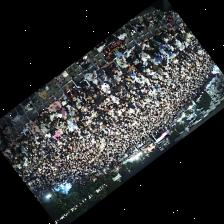person: (69, 73, 90, 91), (135, 45, 151, 62), (133, 57, 149, 72), (65, 84, 77, 101), (103, 60, 117, 73), (120, 62, 134, 75), (154, 39, 169, 50), (124, 47, 135, 62), (76, 90, 88, 103), (48, 100, 61, 112), (85, 69, 97, 82), (114, 80, 126, 92), (116, 54, 127, 67), (64, 100, 74, 114), (67, 120, 77, 134), (39, 108, 49, 122), (102, 68, 111, 83), (105, 71, 120, 80), (152, 31, 164, 42), (130, 63, 140, 76), (100, 80, 110, 92), (90, 78, 100, 90), (140, 37, 149, 50), (41, 123, 50, 136), (96, 66, 104, 80), (152, 63, 163, 73), (15, 133, 25, 144), (87, 86, 96, 98), (31, 124, 39, 137), (58, 107, 66, 120), (148, 38, 158, 48), (50, 118, 59, 129), (49, 109, 57, 121), (23, 125, 30, 138), (25, 119, 34, 129), (166, 26, 176, 35), (53, 130, 61, 141), (28, 133, 36, 144), (67, 112, 75, 123), (75, 95, 81, 108), (58, 95, 66, 104), (10, 137, 19, 145), (111, 78, 121, 85), (59, 122, 66, 132), (8, 142, 17, 149), (173, 24, 180, 32), (97, 89, 104, 97), (44, 120, 51, 127), (179, 22, 183, 29)
